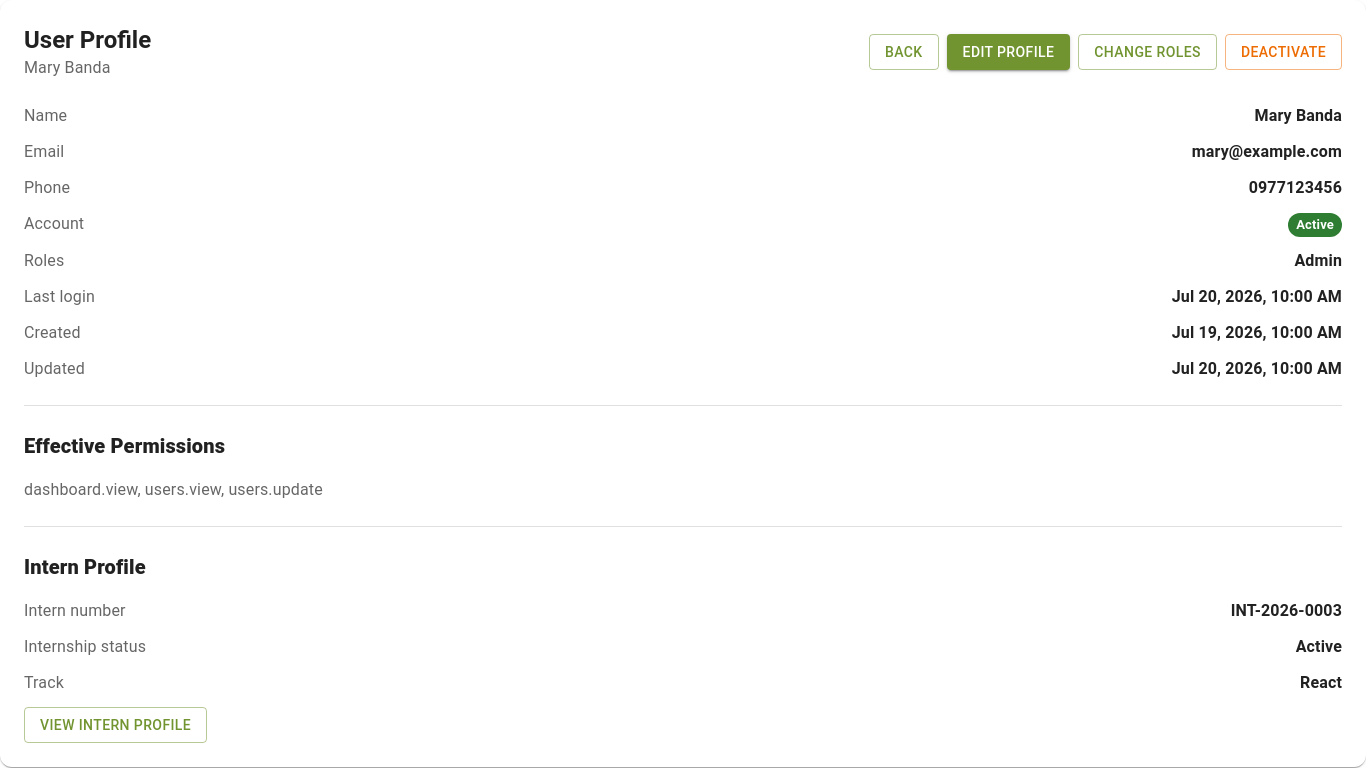
Test: Phase 2 user pages › deactivation uses the correct endpoint and confirmation language
Click the button "Deactivate": (1283, 52) [1225,34,1342,70]
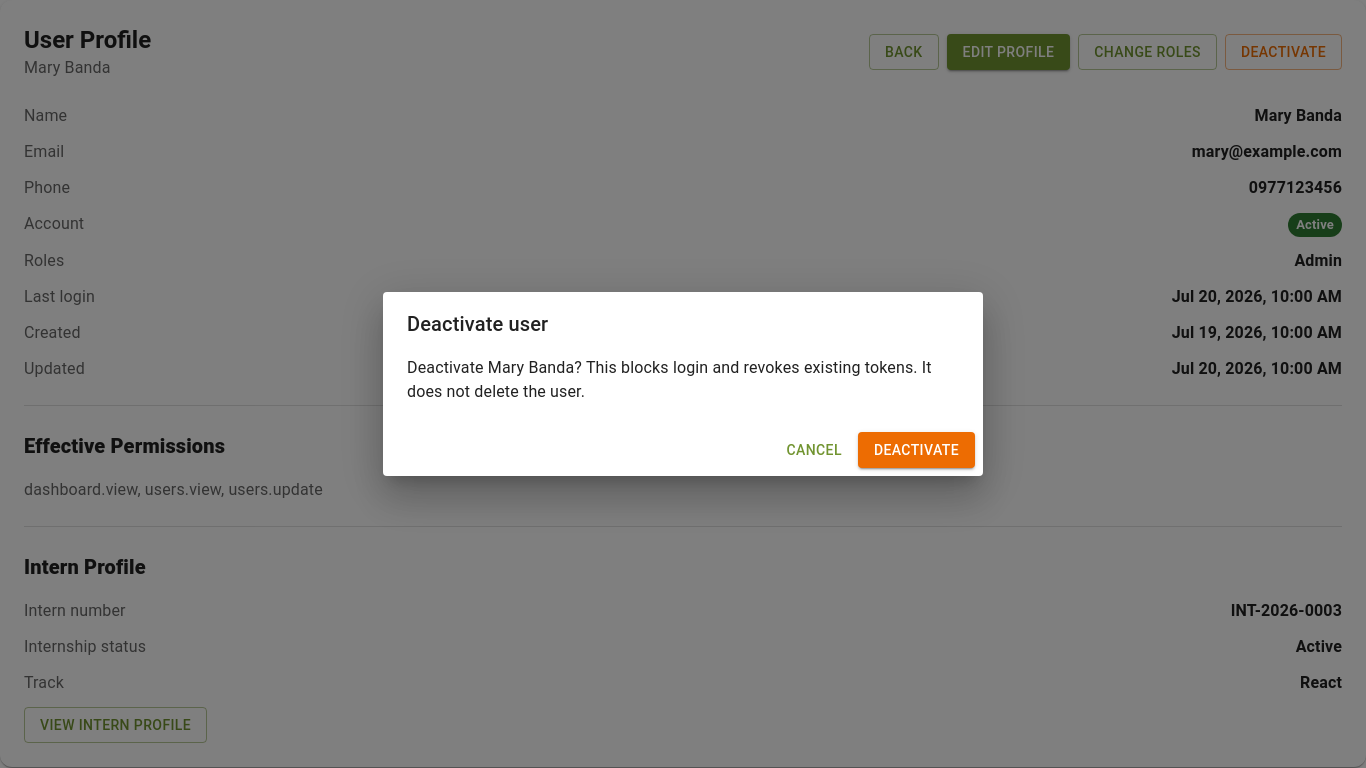
Expected: the text "blocks login and revokes existing tokens" is shown, [407,358,932,401]
Click the button "Deactivate": (916, 450) [858,432,975,468]
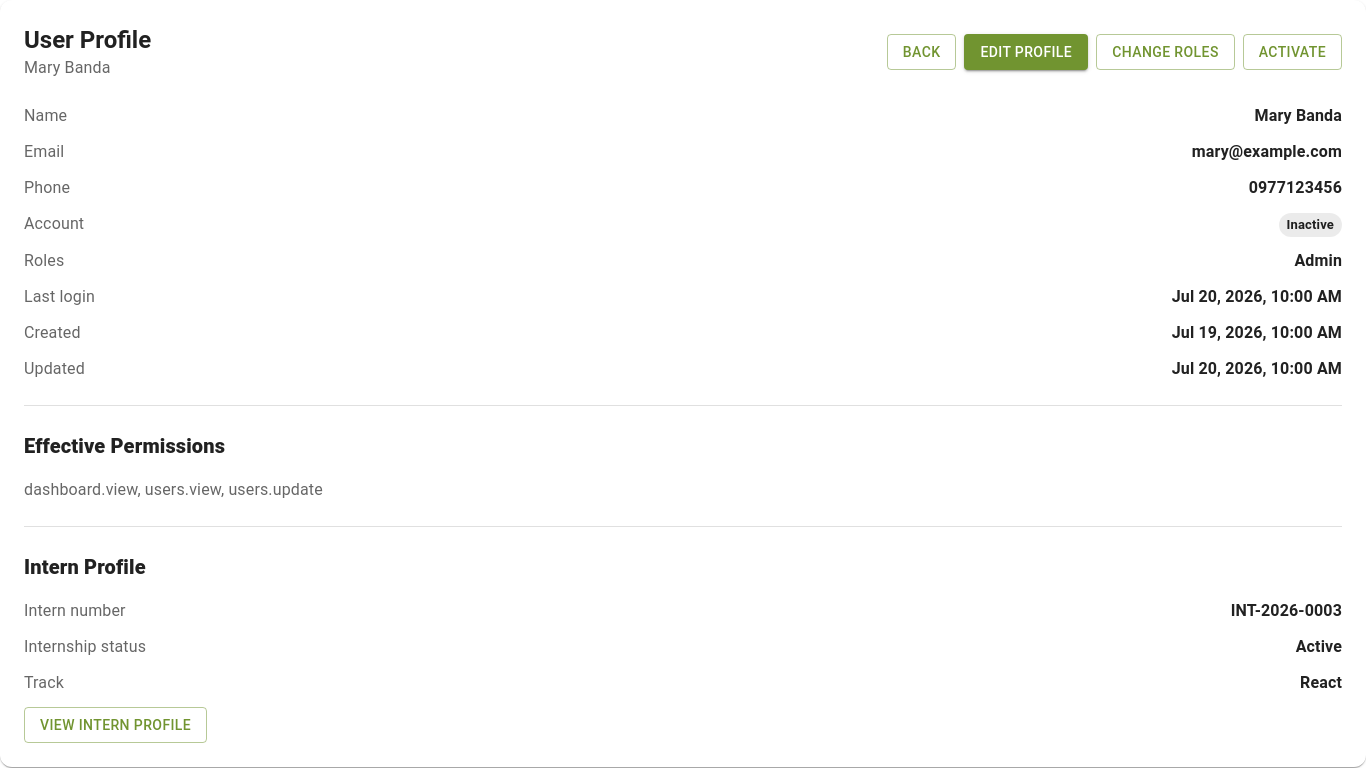
Expected: the text "Inactive" is shown, [1287,217,1334,232]
